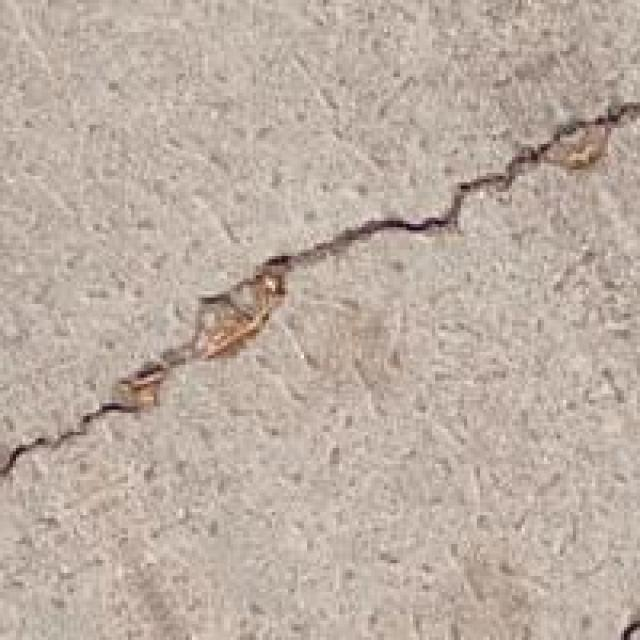Crack: (10, 86, 637, 492)
